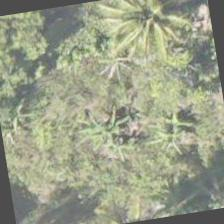Kelapa_Sawit: (90, 0, 190, 66)
